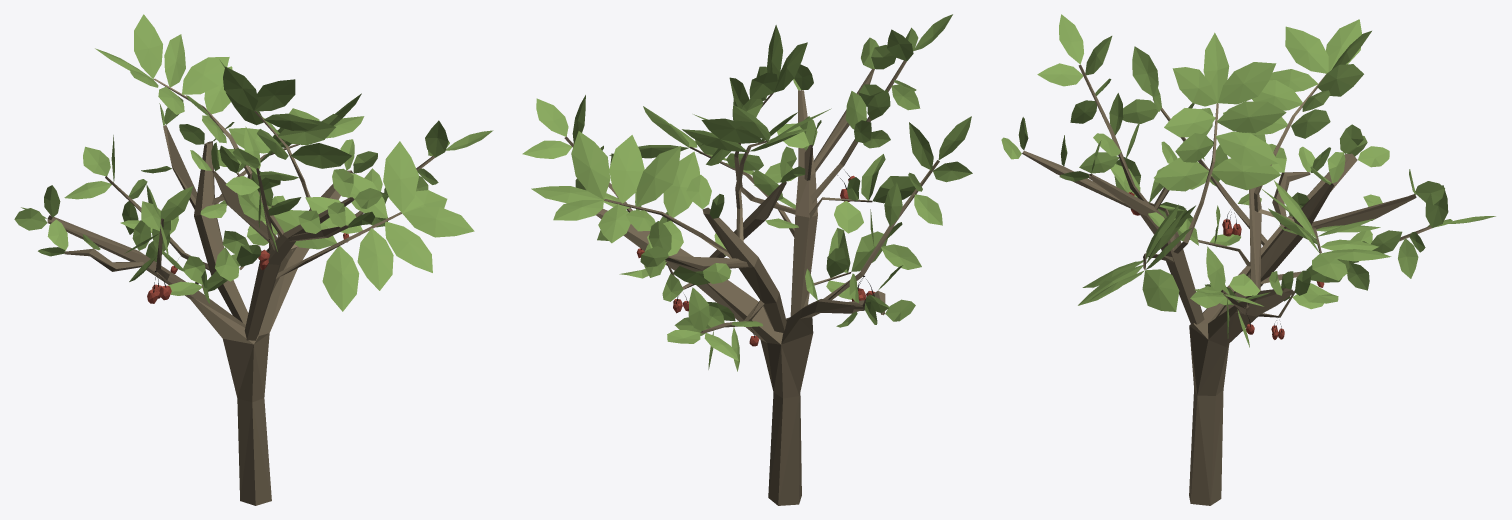
File: Cherry_4_4.fbx
The picture shows the model from 3 angles, left to right: view 1: azimuth 30°, elevation 25°; view 2: azimuth 150°, elevation 25°; view 3: azimuth 270°, elevation 25°; orthographic projection. The views are drawn at different scales.
Parts seen in each view (by area): view 1: Cherry_4_4; view 2: Cherry_4_4; view 3: Cherry_4_4.
Part boxes in pixels (x1=…): Cherry_4_4: x1=14, y1=14, x2=493, y2=505; Cherry_4_4: x1=522, y1=14, x2=972, y2=505; Cherry_4_4: x1=1001, y1=14, x2=1495, y2=505.
Size of the model in its own units: 353 by 364 by 361.
